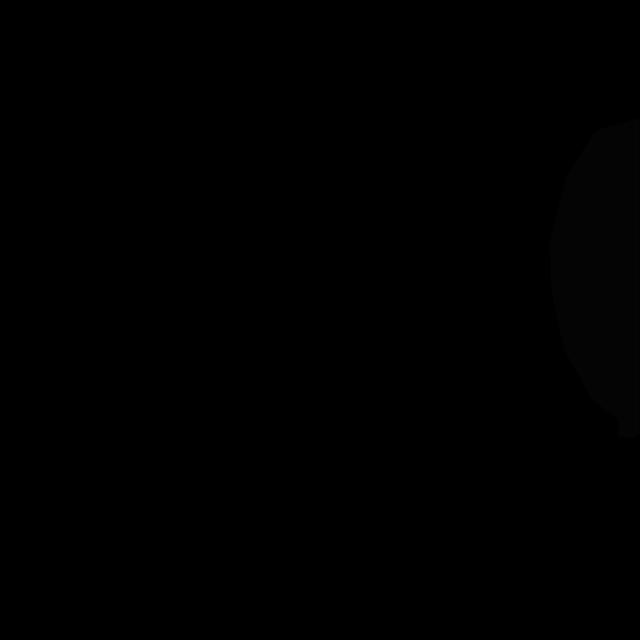soft_plastic: (550, 118, 640, 439)
